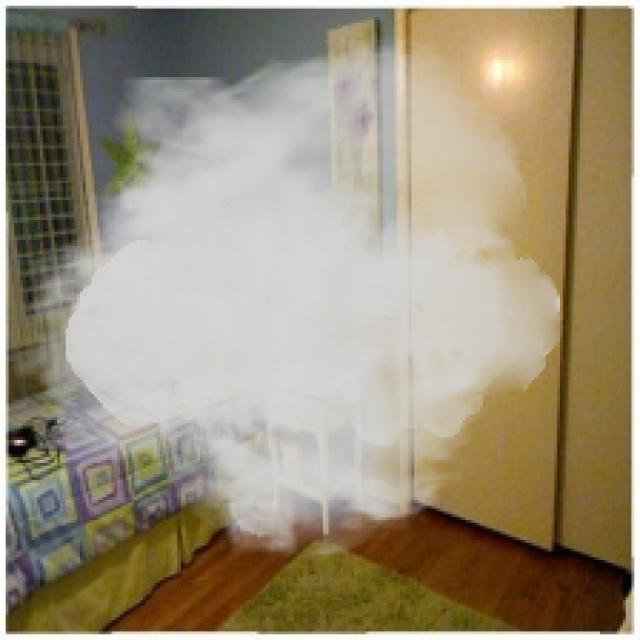smoke: (8, 31, 563, 563)
